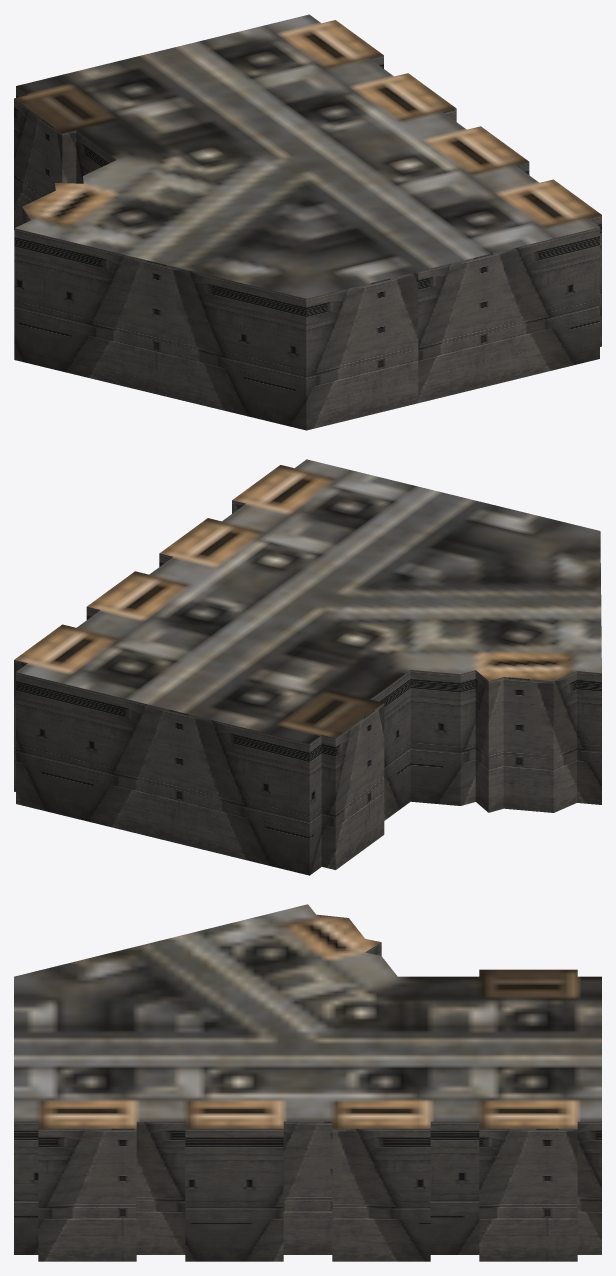
Rendered from fortress_hard_a_25.glb.
The picture shows the model from 3 angles, top to bottom: view 1: azimuth 30°, elevation 25°; view 2: azimuth 150°, elevation 25°; view 3: azimuth 270°, elevation 25°; orthographic projection.
Parts seen in each view (by area): view 1: buildings/saxarba/fortress_hard/fortress_hard_a_25; view 2: buildings/saxarba/fortress_hard/fortress_hard_a_25; view 3: buildings/saxarba/fortress_hard/fortress_hard_a_25.
Boxes of the visible parts, box(x1,y1,x2,y2) form: buildings/saxarba/fortress_hard/fortress_hard_a_25: box(14, 14, 601, 430); buildings/saxarba/fortress_hard/fortress_hard_a_25: box(14, 459, 601, 875); buildings/saxarba/fortress_hard/fortress_hard_a_25: box(14, 904, 601, 1261).
Size of the model in its own units: 65 by 18 by 72.
